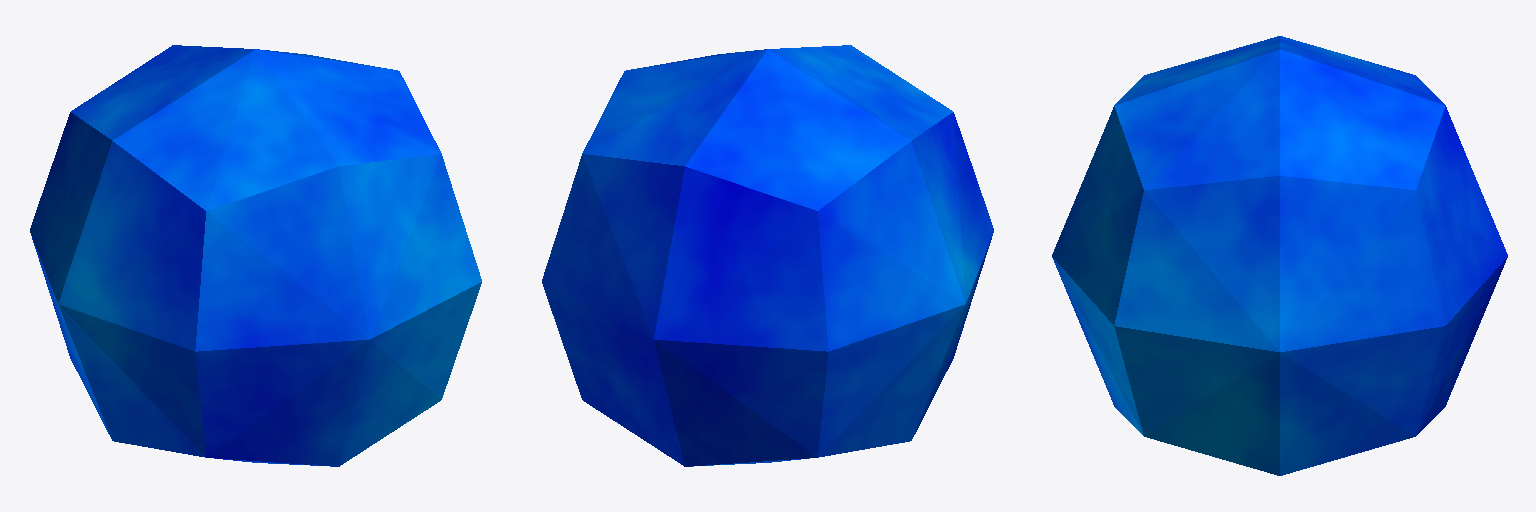
3 views of the same model, side by side, from view 1: azimuth 30°, elevation 25°; view 2: azimuth 150°, elevation 25°; view 3: azimuth 270°, elevation 25° (orthographic).
Visible parts, largest first — view 1: Cube; view 2: Cube; view 3: Cube.
Boxes of the visible parts, box(x1,y1,x2,y2) form: Cube: box(30, 45, 481, 466); Cube: box(542, 45, 993, 466); Cube: box(1052, 36, 1507, 475).
Bounding box in the file's own units: 1.68 × 1.68 × 1.68.
1 materials, 1 textured.